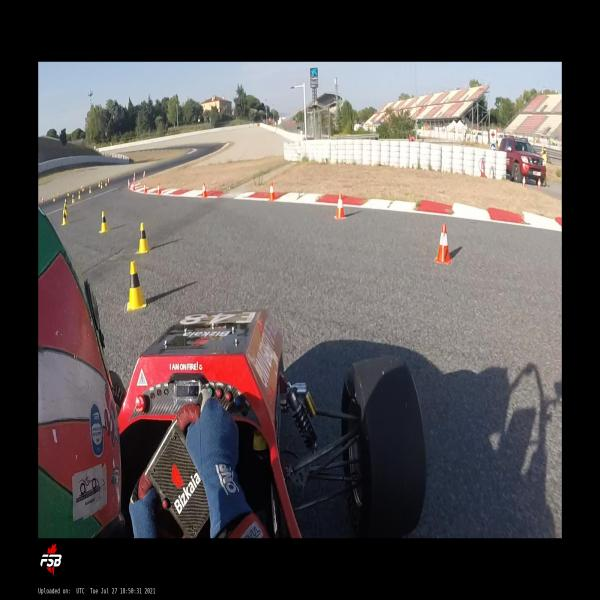orange_cone: (434, 224, 453, 264), (334, 194, 346, 219), (268, 181, 276, 201), (202, 182, 207, 198), (536, 177, 542, 189), (521, 174, 526, 186), (157, 183, 161, 195), (143, 183, 147, 193), (132, 173, 136, 183), (131, 183, 135, 191), (41, 197, 45, 203), (128, 179, 130, 189), (143, 170, 145, 179), (57, 192, 59, 197)
yellow_cone: (127, 261, 146, 312), (136, 222, 151, 254), (99, 212, 109, 234), (61, 210, 67, 225), (64, 203, 68, 215), (71, 194, 75, 204), (77, 190, 80, 200), (89, 186, 91, 194), (67, 189, 69, 197), (105, 180, 107, 187), (82, 185, 84, 192), (65, 199, 67, 206), (53, 195, 55, 202), (100, 182, 102, 188), (98, 182, 100, 188), (80, 185, 82, 191), (108, 179, 109, 183)
